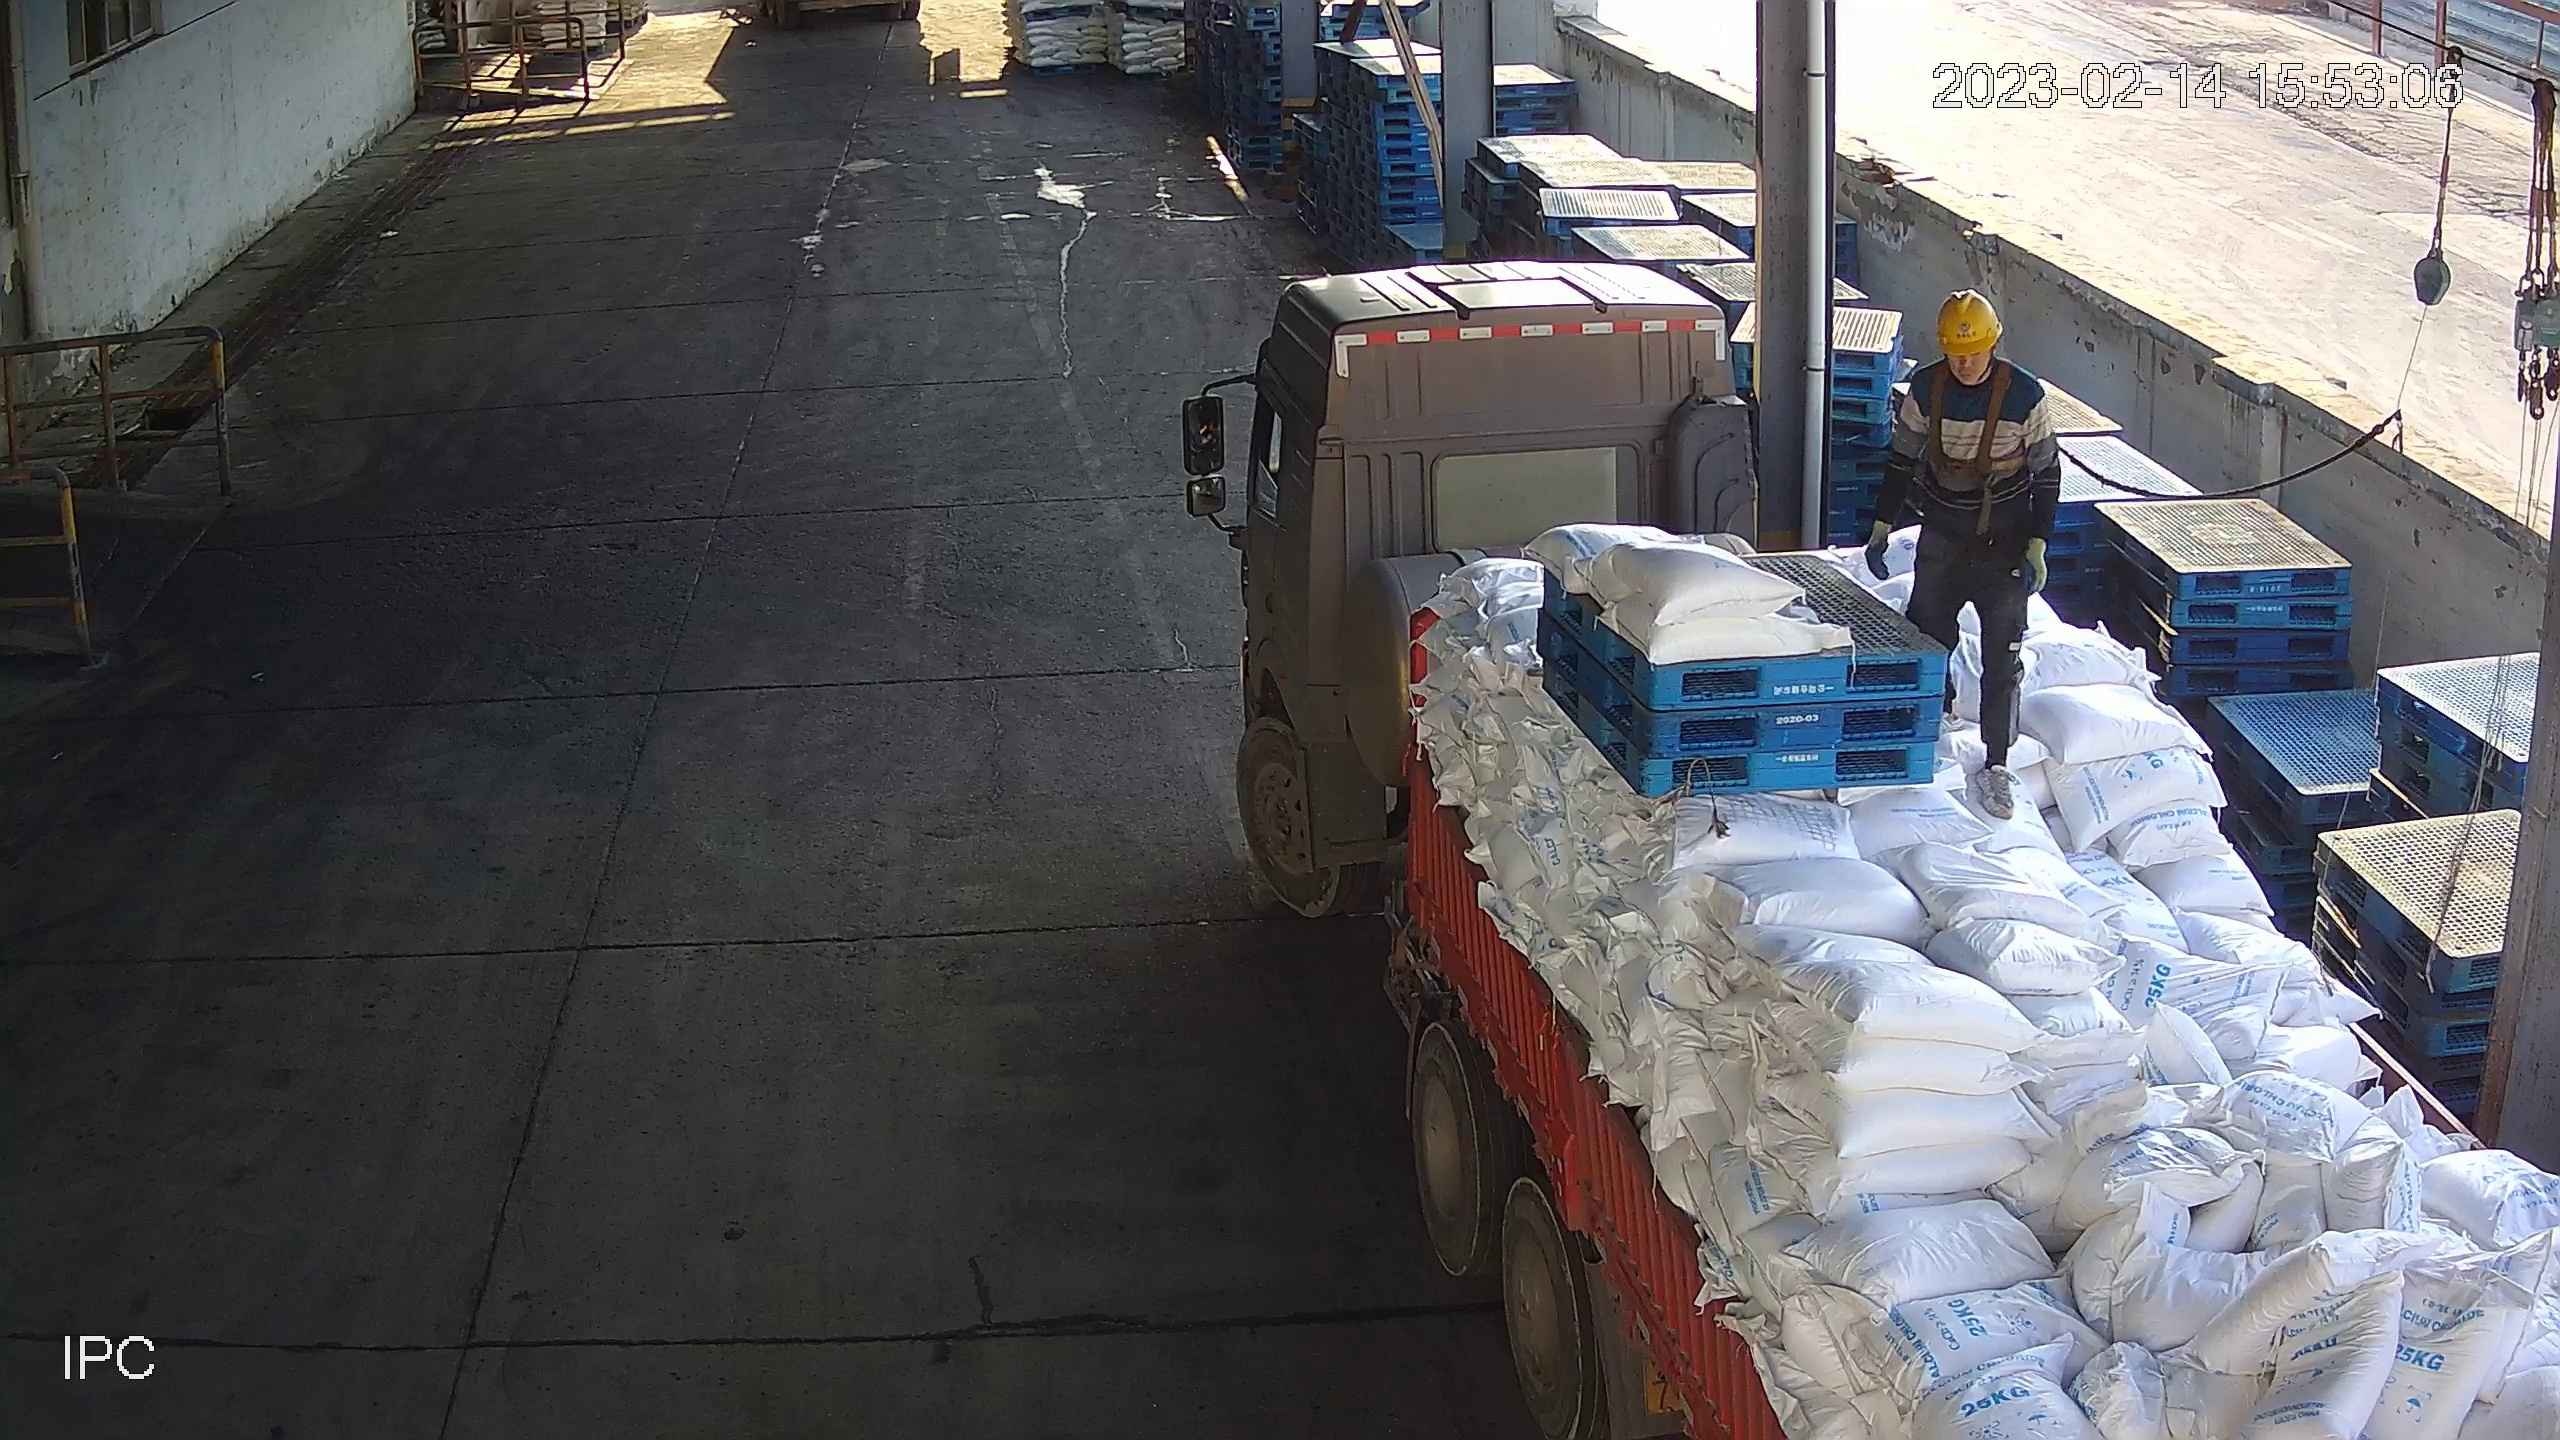belt: (1920, 359, 2029, 536)
head: (1896, 287, 2050, 428)
helmet: (1935, 288, 2001, 356)
people: (1864, 288, 2061, 821)
truck: (1178, 259, 2556, 1439)
